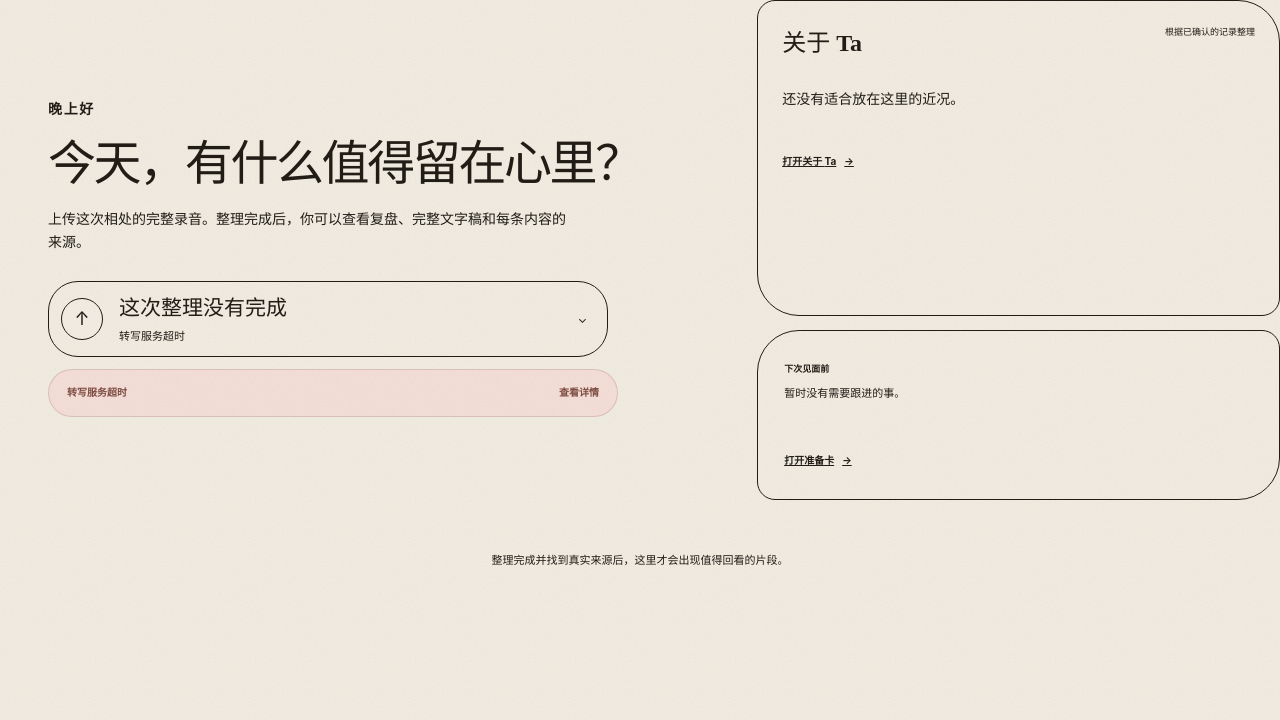
Test: CompanionHome › keeps a processing failure visible and opens its backend detail
The image size is (1280, 720).
Click the button "转写服务超时 查看详情". click: click(97, 392)
box: [48,369,618,417]
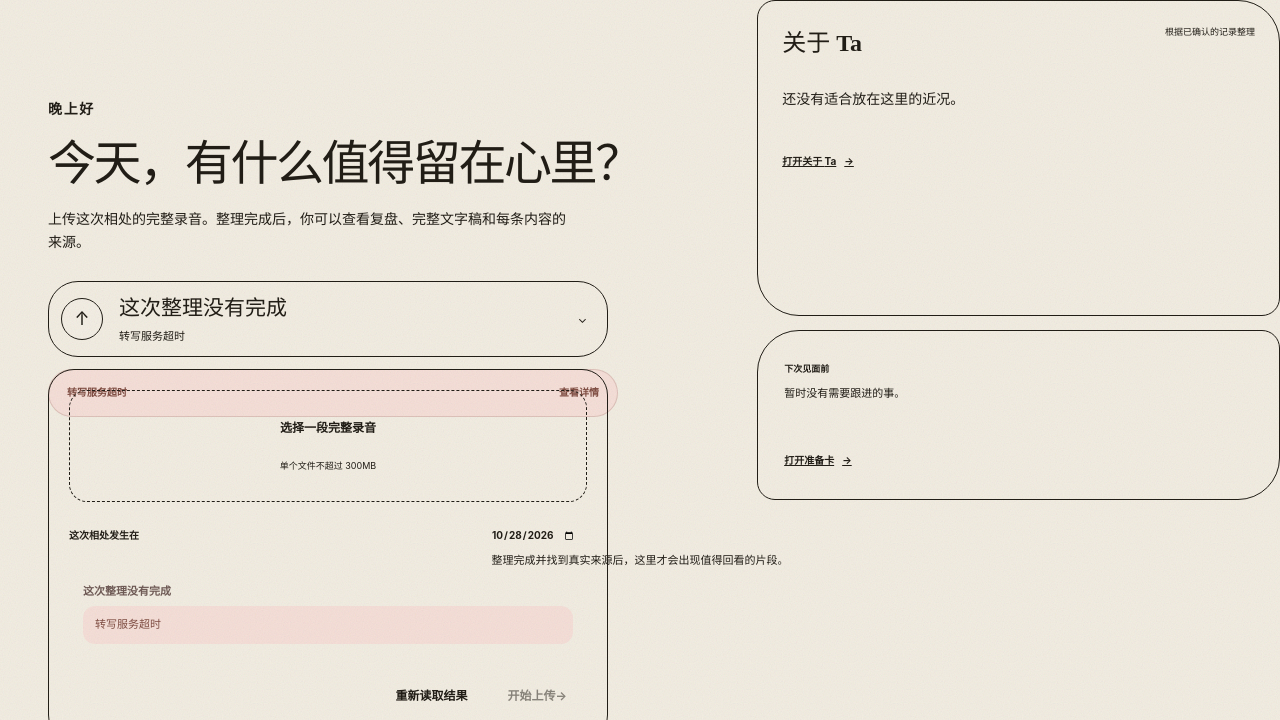
expect the message "转写服务超时" is shown: met, box [83,606,573,644]
